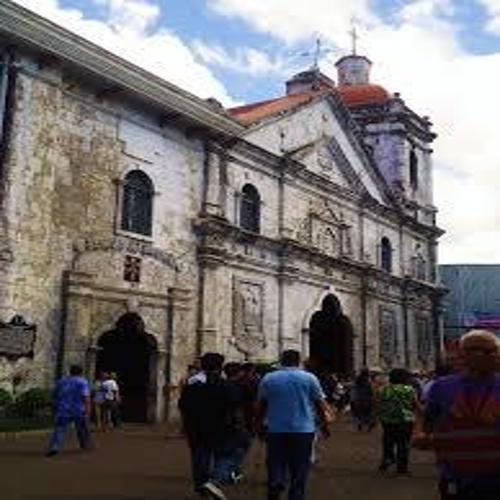Sto. Nino Basilica Church: (197, 12, 455, 399)
